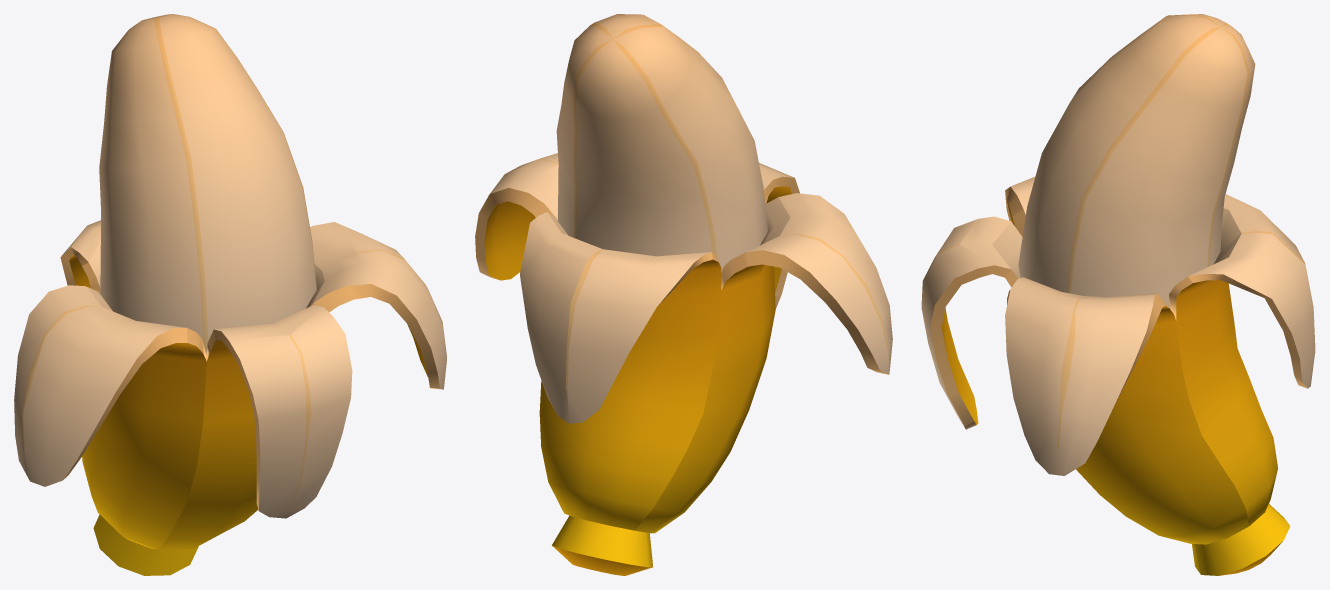
File: Banana_V1_01.fbx
The picture shows the model from 3 angles, left to right: view 1: azimuth 30°, elevation 25°; view 2: azimuth 150°, elevation 25°; view 3: azimuth 270°, elevation 25°; orthographic projection. The views are drawn at different scales.
Parts seen in each view (by area): view 1: Banana_V1_01; view 2: Banana_V1_01; view 3: Banana_V1_01.
Part boxes in pixels (bbox=[...]): Banana_V1_01: bbox=[14, 14, 446, 575]; Banana_V1_01: bbox=[475, 14, 892, 575]; Banana_V1_01: bbox=[921, 14, 1315, 575].
Size of the model in its own units: 32.07 by 40.79 by 26.55.
